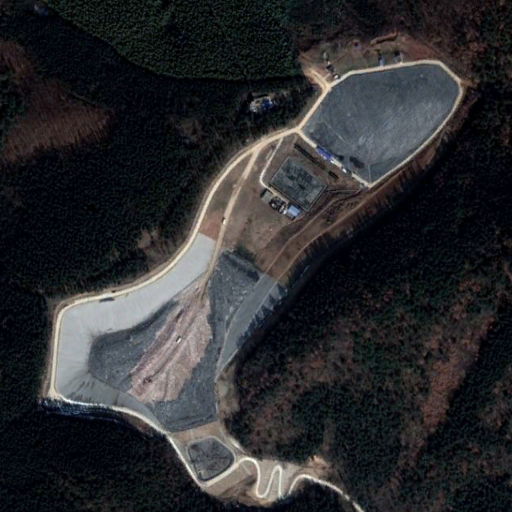lf: (48, 60, 465, 431)
